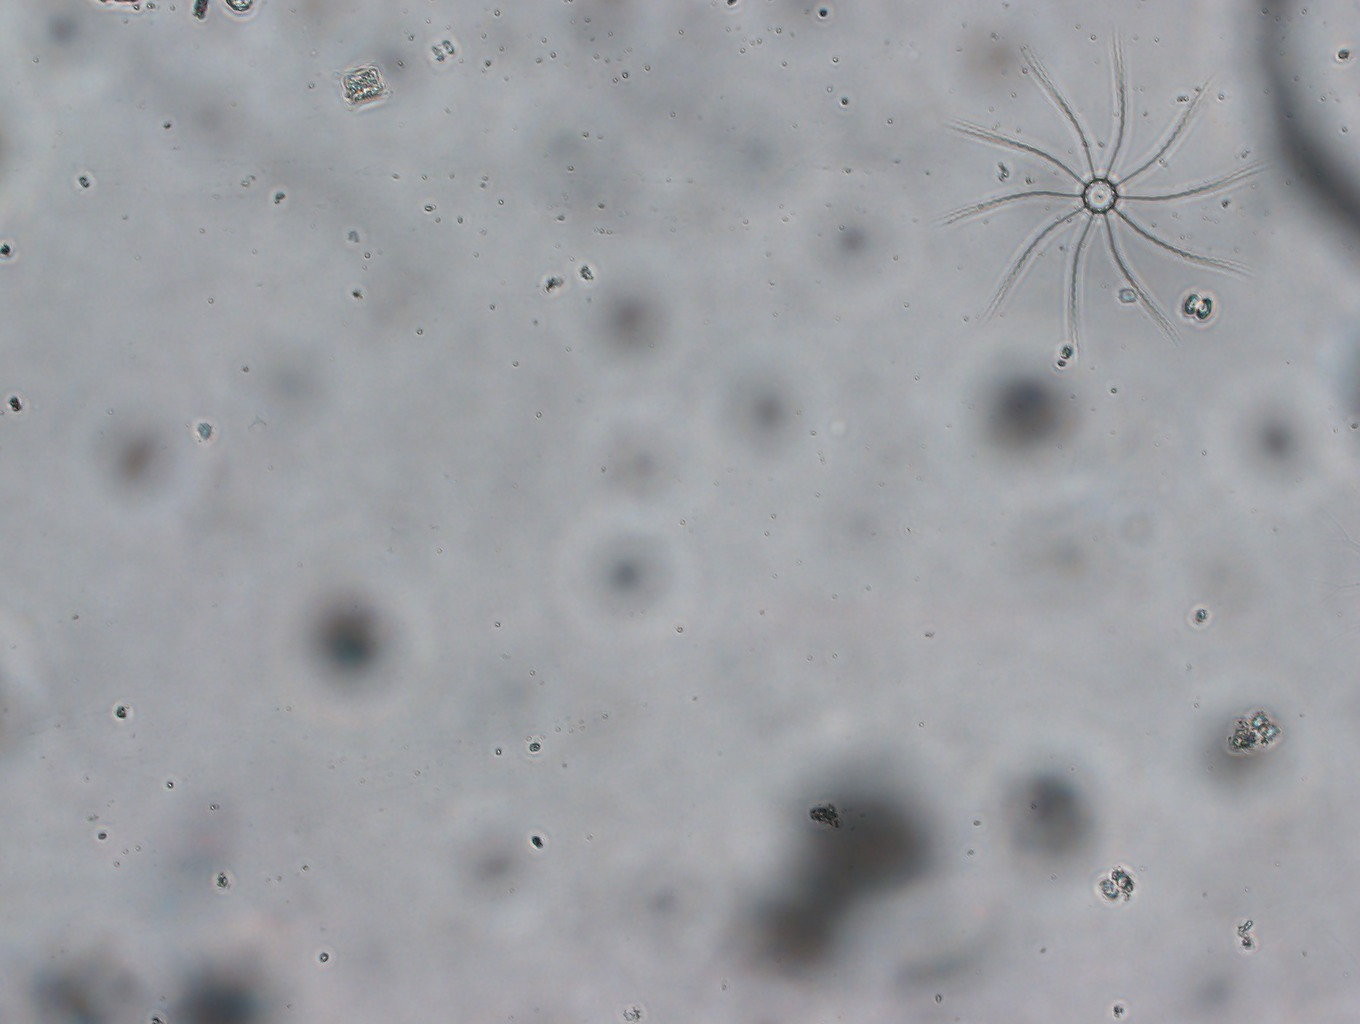bacteriastrum: (942, 39, 1261, 353)
